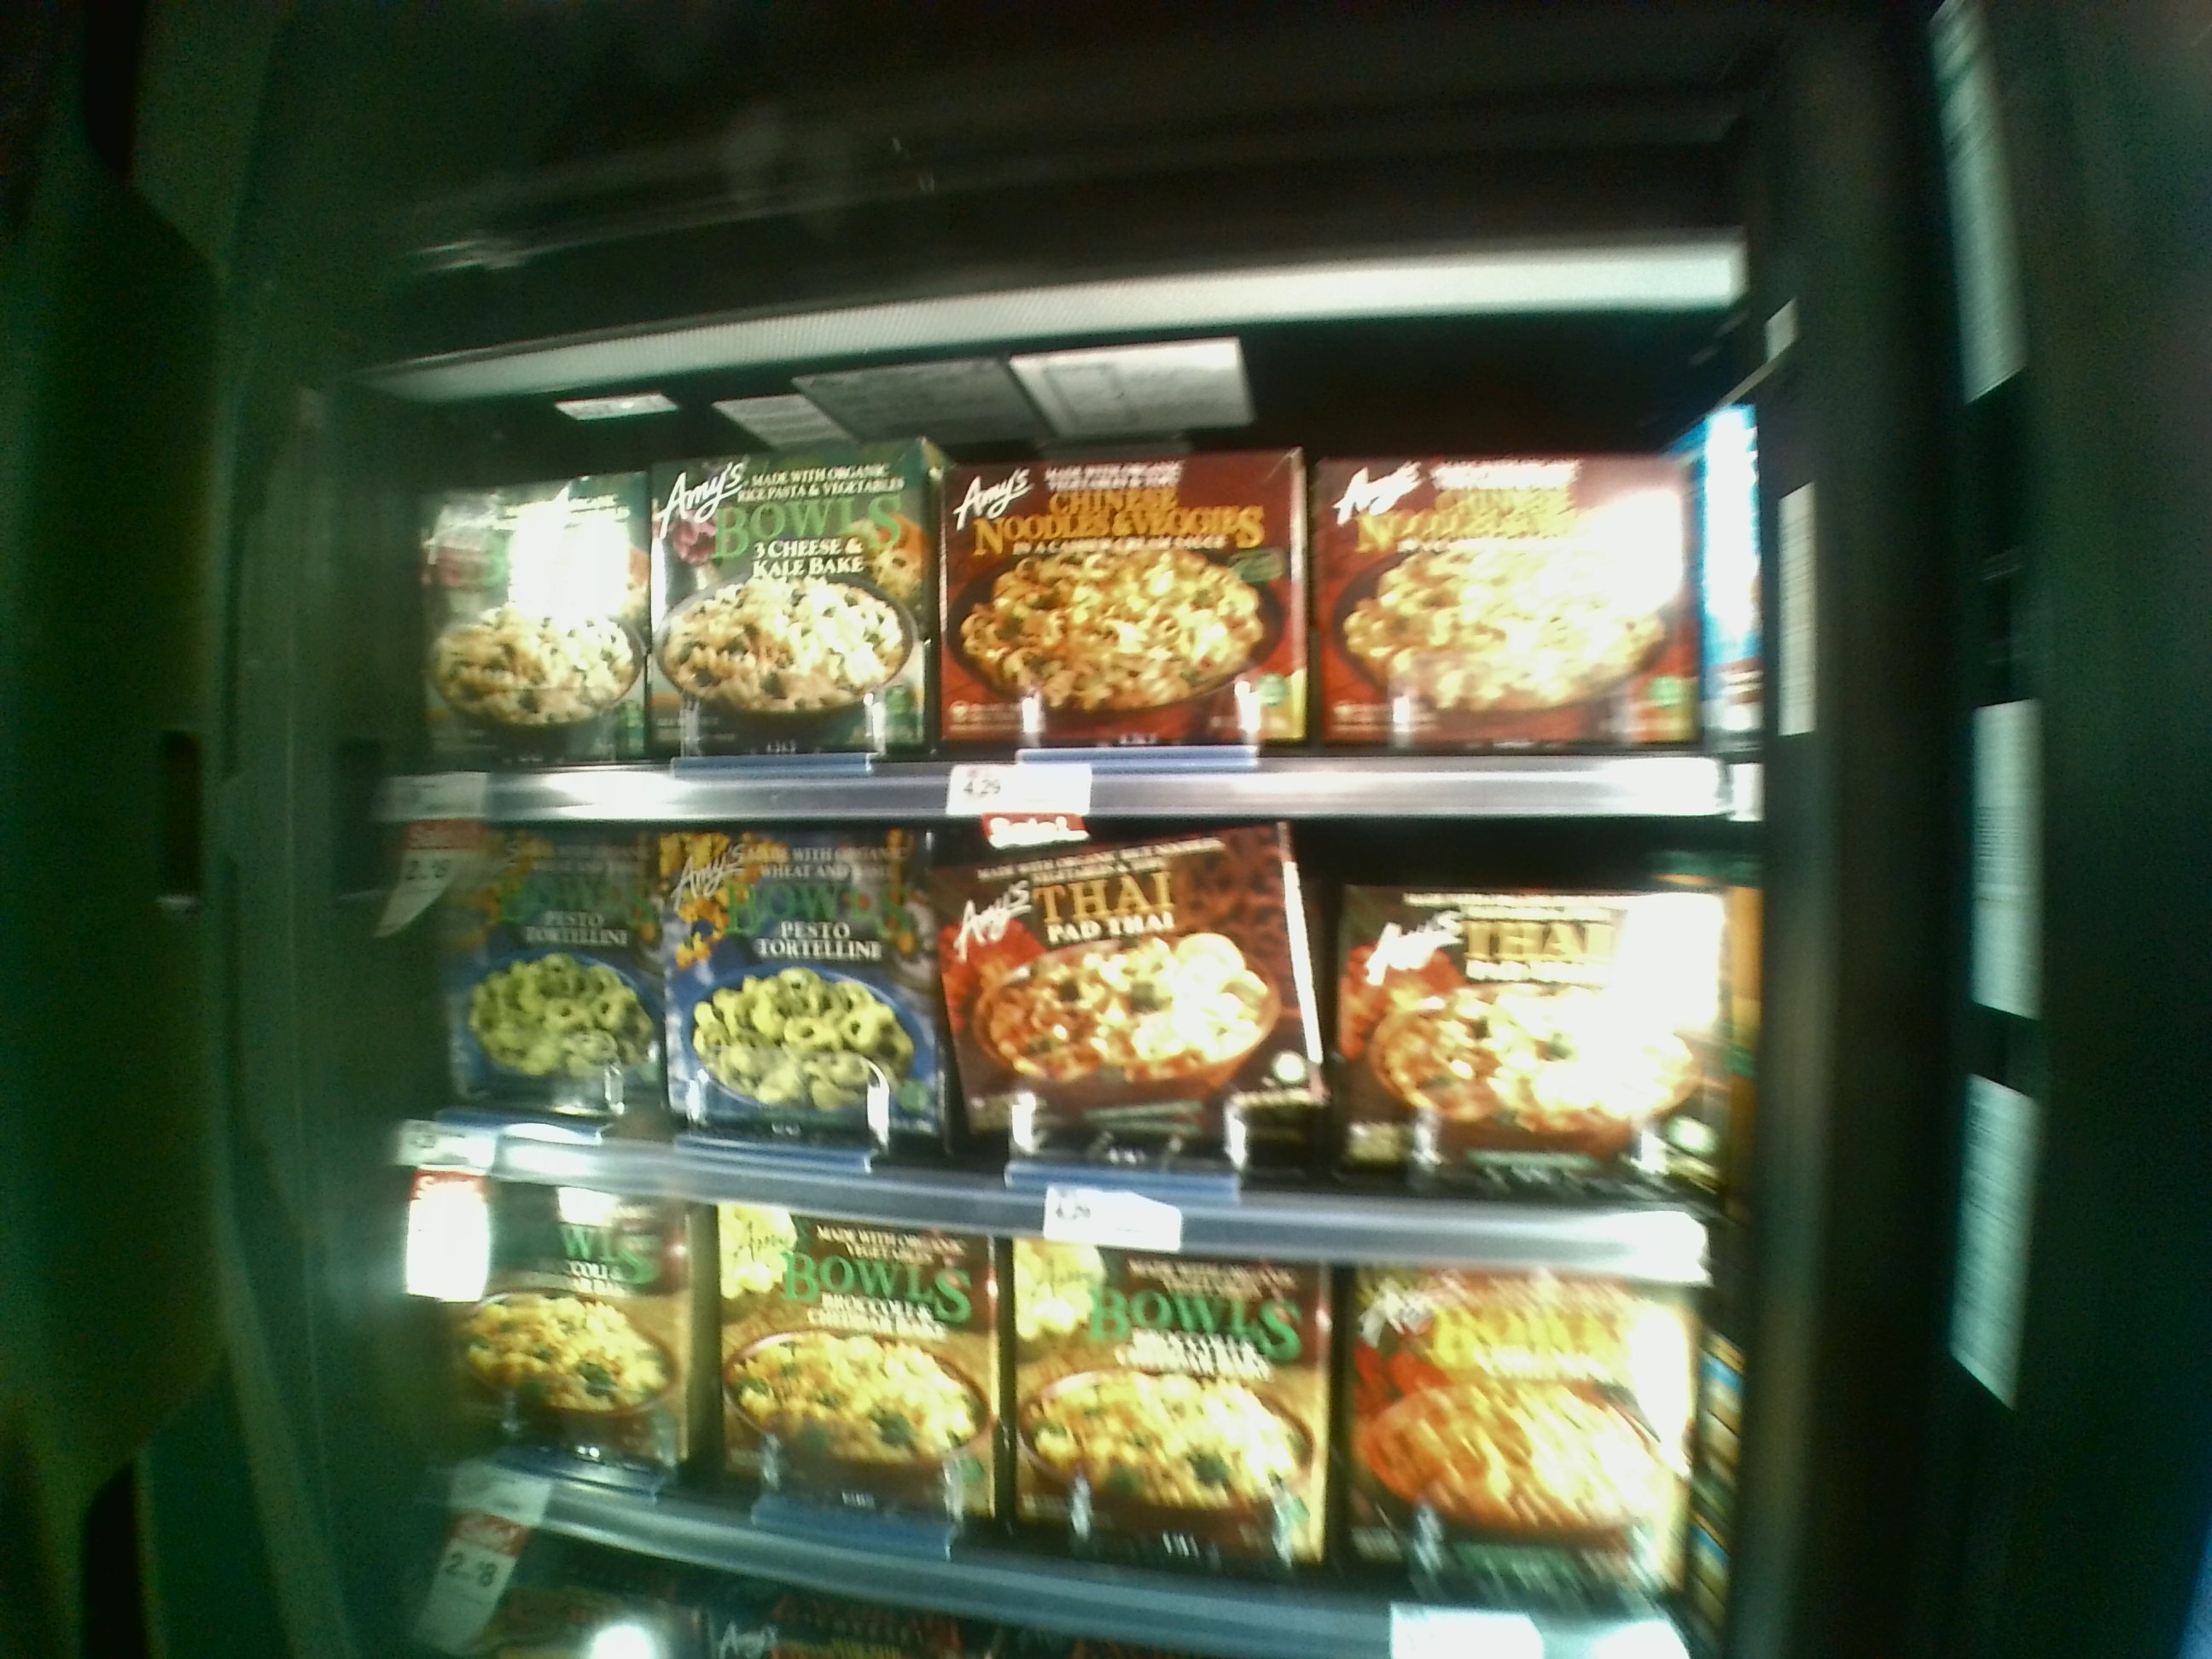shelf: (369, 383, 1750, 824), (402, 824, 1731, 1202), (416, 1197, 1702, 1588)
